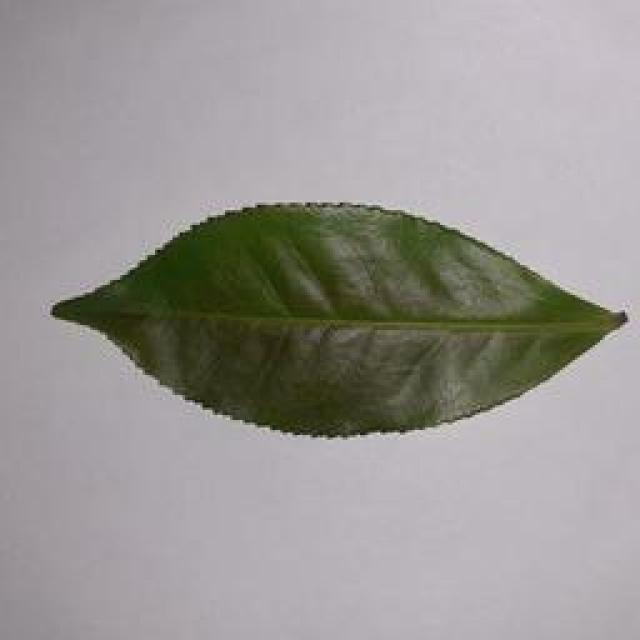Red Leaf Spot: (49, 198, 629, 430)
